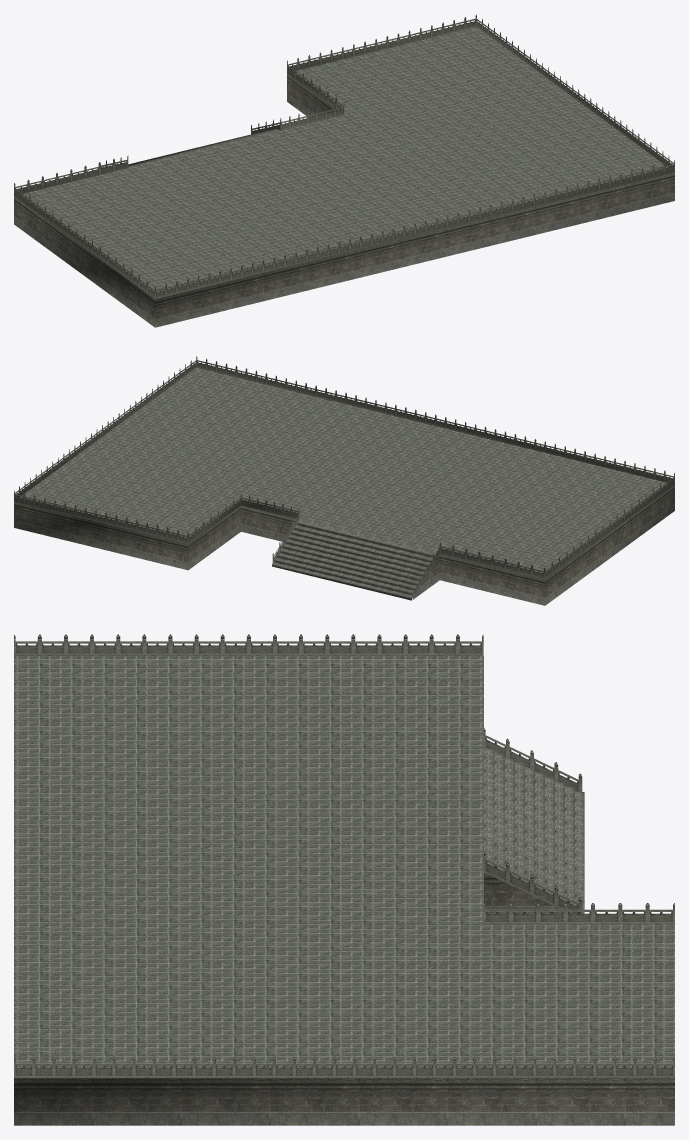
Rendered from cj_mili_ration.glb.
3 renders of one model, top to bottom at view 1: azimuth 30°, elevation 25°; view 2: azimuth 150°, elevation 25°; view 3: azimuth 270°, elevation 25°, orthographic. The views are drawn at different scales.
Parts seen in each view (by area): view 1: CJ_mili_ration04, CJ_mili_ration03, CJ_mili_ration02, CJ_mili_ration01; view 2: CJ_mili_ration04, CJ_mili_ration03, CJ_mili_ration02, CJ_mili_ration01; view 3: CJ_mili_ration04, CJ_mili_ration03, CJ_mili_ration02, CJ_mili_ration01.
Part boxes in pixels (left/top/right/bottom): CJ_mili_ration04: left=23, top=27, right=667, bottom=292; CJ_mili_ration03: left=14, top=73, right=674, bottom=327; CJ_mili_ration02: left=14, top=14, right=674, bottom=299; CJ_mili_ration01: left=128, top=129, right=279, bottom=167; CJ_mili_ration04: left=20, top=368, right=666, bottom=577; CJ_mili_ration03: left=14, top=485, right=674, bottom=605; CJ_mili_ration02: left=14, top=356, right=674, bottom=599; CJ_mili_ration01: left=272, top=520, right=436, bottom=600; CJ_mili_ration04: left=14, top=656, right=674, bottom=1067; CJ_mili_ration03: left=14, top=872, right=674, bottom=1125; CJ_mili_ration02: left=14, top=634, right=674, bottom=1078; CJ_mili_ration01: left=484, top=749, right=584, bottom=913.
Bounding box in the file's own units: 57.41 × 4.37 × 37.98.
Materials: 4 (4 with a texture image).
